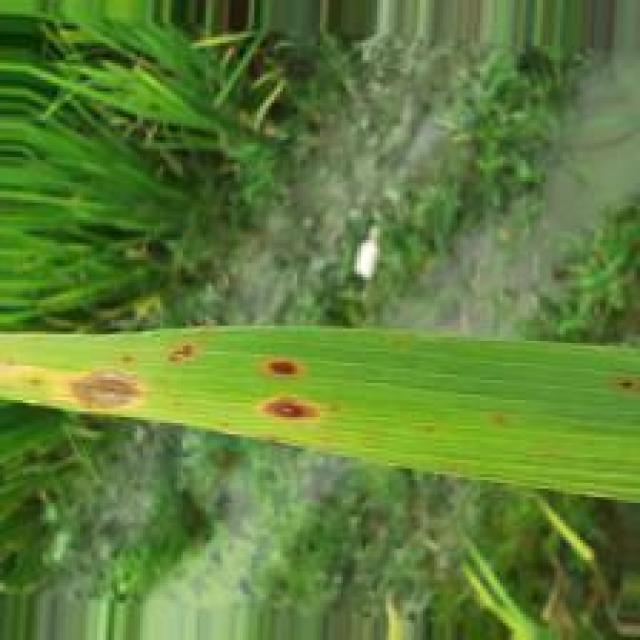Brown_Spot: (60, 369, 145, 413), (260, 396, 318, 423), (262, 356, 300, 379)
